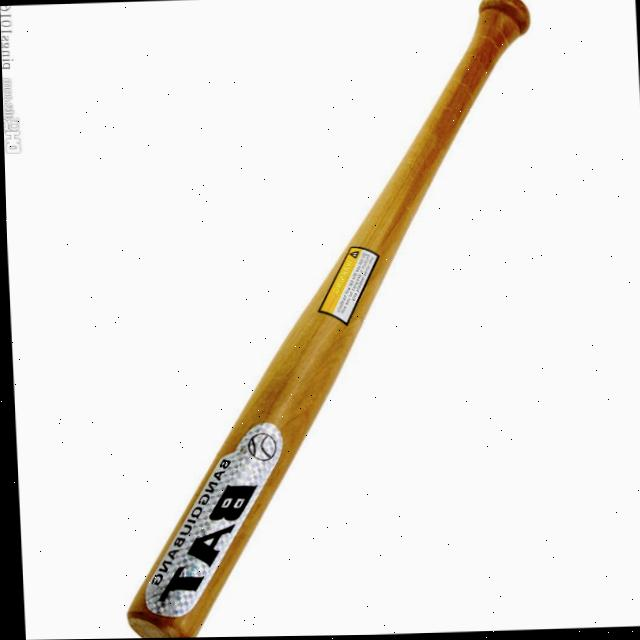baseball bat: (129, 7, 586, 614)
